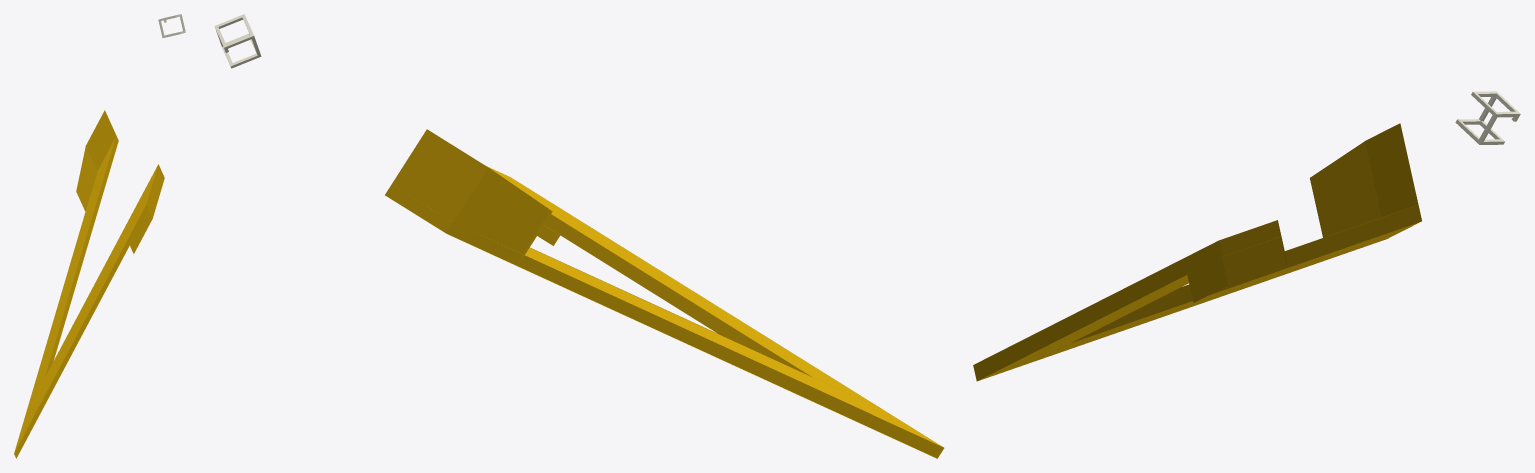
3 renders of one model, left to right at view 1: azimuth 30°, elevation 25°; view 2: azimuth 150°, elevation 25°; view 3: azimuth 270°, elevation 25°, orthographic. The views are drawn at different scales.
Visible parts, largest first — view 1: 3DGeom-4, Box001; view 2: 3DGeom-4, Box001; view 3: 3DGeom-4, Box001.
Part boxes in pixels (x1,y1,x2,y2): 3DGeom-4: (14,110,164,458); Box001: (158,14,185,37); 3DGeom-4: (385,129,944,458); Box001: (214,14,261,68); 3DGeom-4: (973,123,1421,381); Box001: (1455,91,1520,144).
Size of the model in its own units: 72.32 by 65.58 by 57.46.
